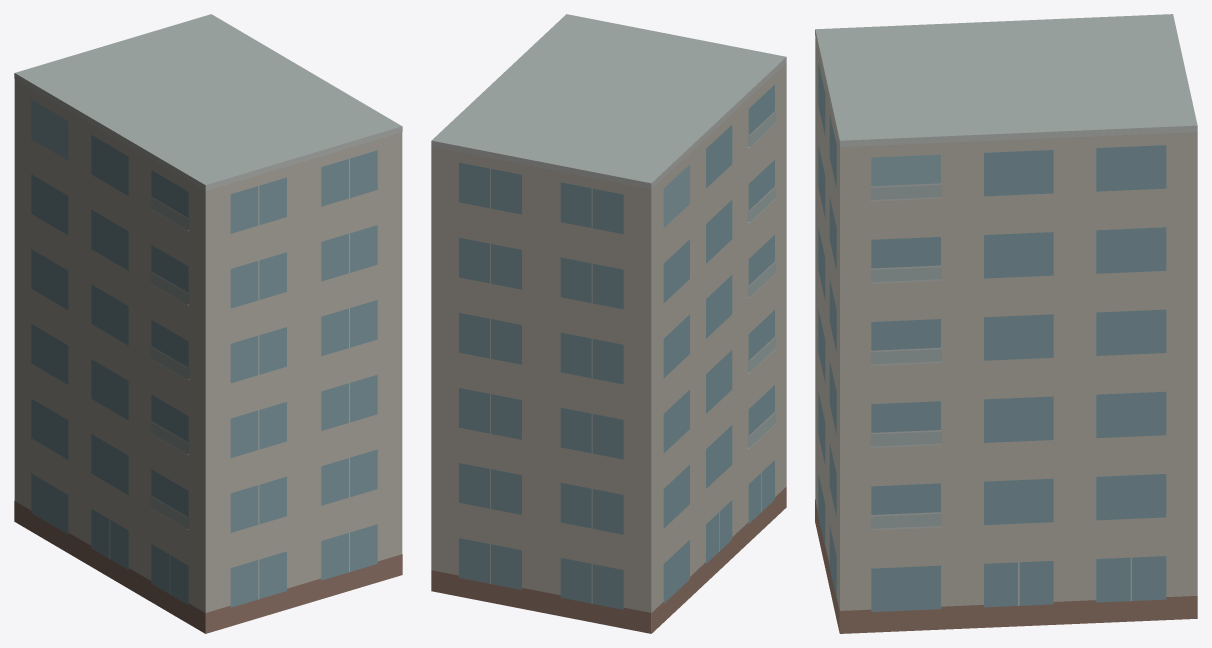
File: survey-upis-33008035.glb
The picture shows the model from 3 angles, left to right: view 1: azimuth 30°, elevation 25°; view 2: azimuth 150°, elevation 25°; view 3: azimuth 270°, elevation 25°; orthographic projection. The views are drawn at different scales.
Parts seen in each view (by area): view 1: survey-upis-33008035.tmp; view 2: survey-upis-33008035.tmp; view 3: survey-upis-33008035.tmp.
Boxes of the visible parts, x1,y1,x2,y2 form: survey-upis-33008035.tmp: [14, 14, 402, 633]; survey-upis-33008035.tmp: [431, 14, 786, 633]; survey-upis-33008035.tmp: [815, 14, 1197, 633].
Size of the model in its own units: 10.37 by 18.8 by 13.22.
